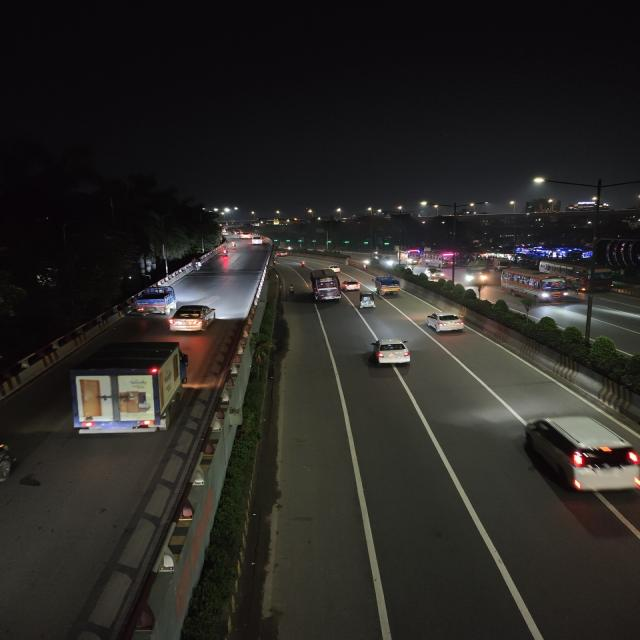bus: (538, 260, 613, 292), (501, 270, 571, 304), (307, 270, 341, 302), (463, 258, 494, 286), (424, 250, 454, 268), (404, 250, 422, 266)
car: (512, 409, 640, 501), (364, 337, 414, 371), (166, 303, 218, 335), (424, 310, 467, 336), (340, 278, 362, 292), (250, 236, 266, 246), (276, 250, 290, 258)
cng: (356, 292, 377, 310)
motorcycle: (296, 258, 308, 268), (220, 248, 231, 258)
pedestrian: (286, 283, 297, 297)
pickup_van: (132, 286, 179, 316), (372, 276, 402, 296)
truck: (63, 338, 191, 438)
